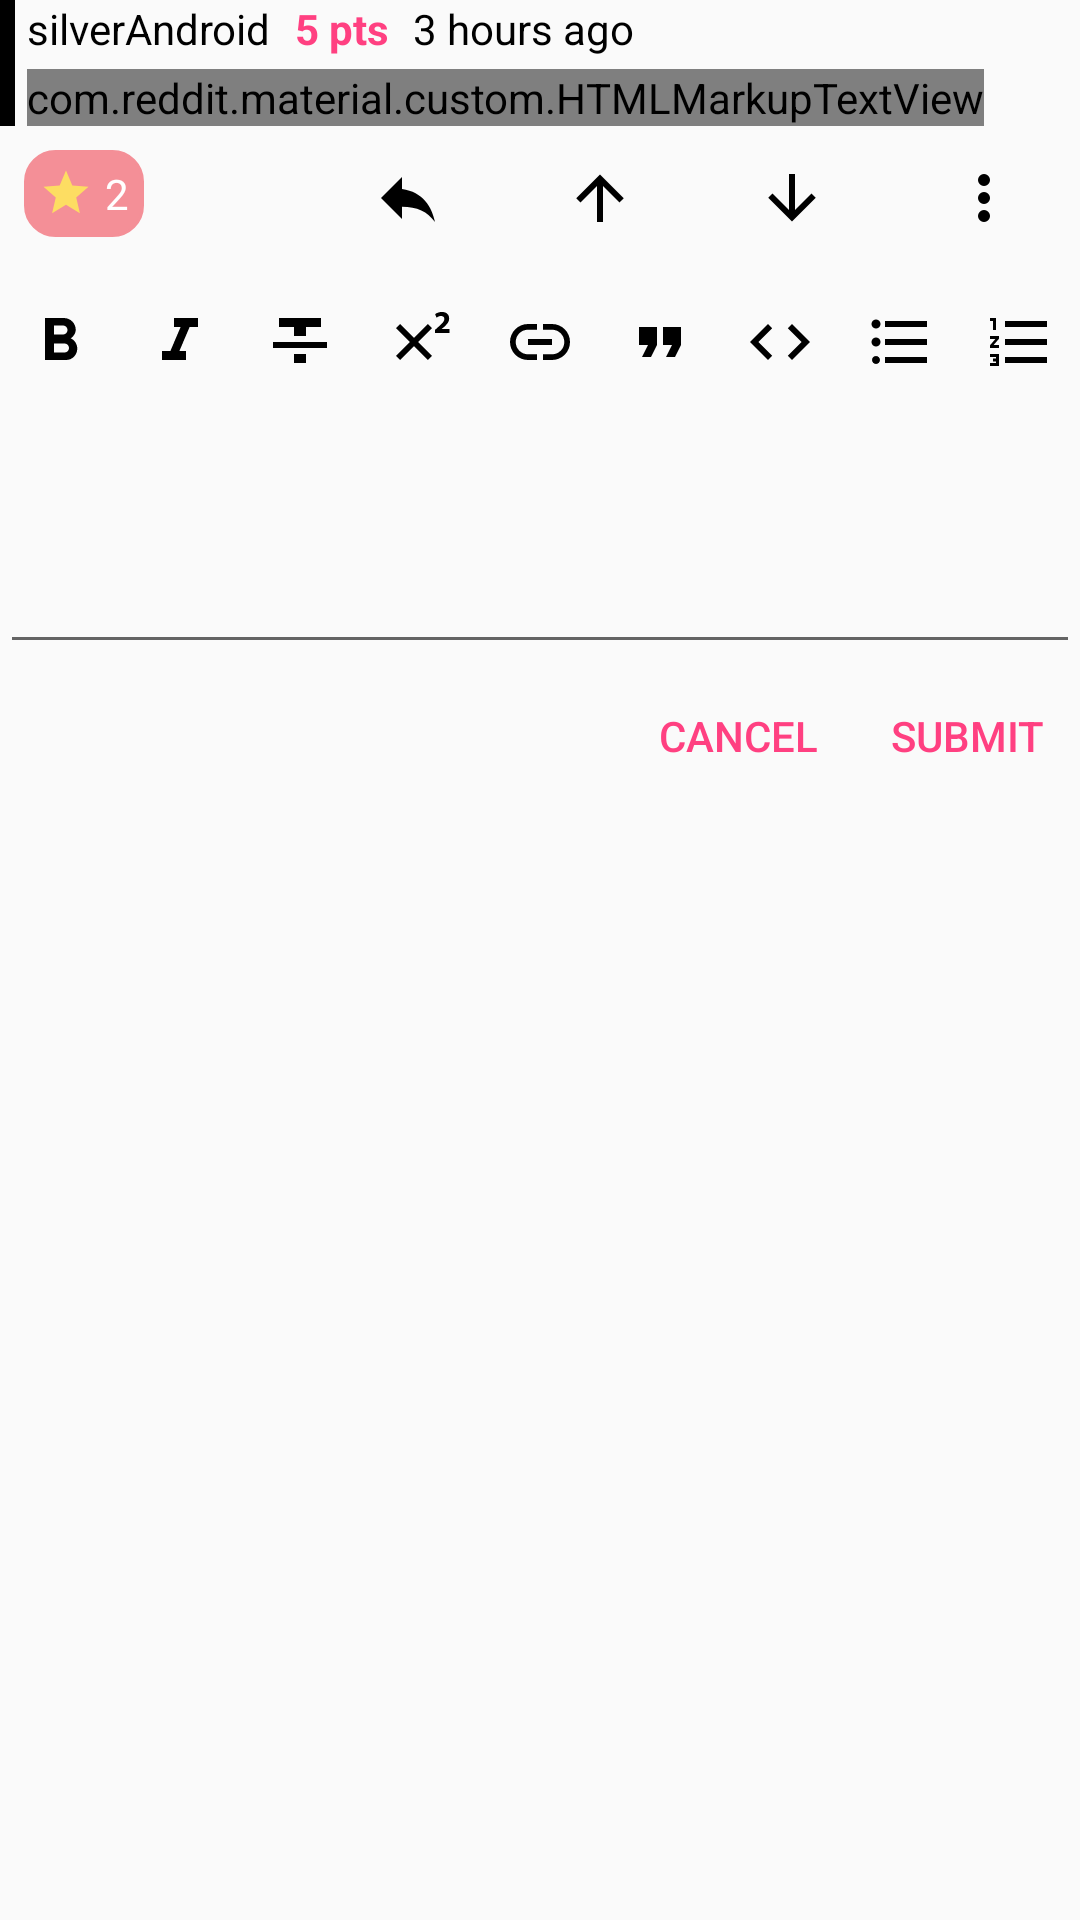

Icons on this 1080*1920 Android screen, each with its box as (x1, y1, x2, y2):
arrow down: (768, 174, 816, 222)
arrow up: (576, 174, 624, 222)
code tags: (750, 324, 810, 360)
dots vertical: (978, 174, 990, 222)
format: (45, 318, 78, 360)
format italic: (162, 318, 198, 360)
format list bulleted: (871, 319, 927, 364)
format list numbers: (990, 318, 1047, 366)
format quote: (639, 327, 681, 357)
format strikethrough: (273, 318, 327, 363)
format superscript: (396, 312, 450, 360)
link: (510, 324, 570, 360)
reply: (381, 177, 435, 222)
